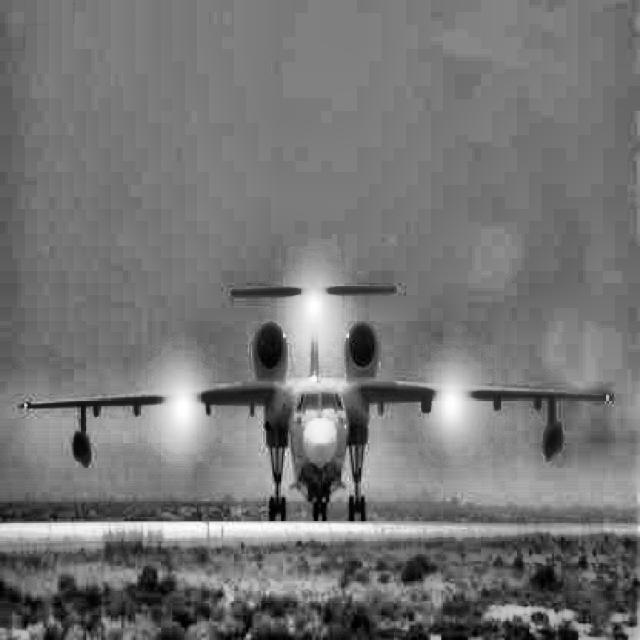Be200: (18, 268, 614, 522)
